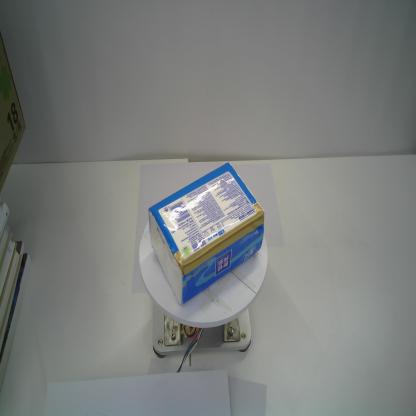Tissue: (148, 161, 266, 305)
